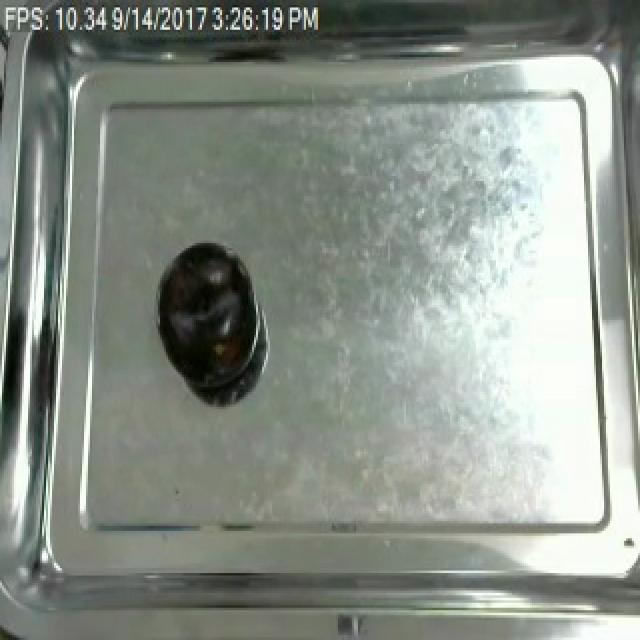Fruit: (152, 241, 256, 392)
